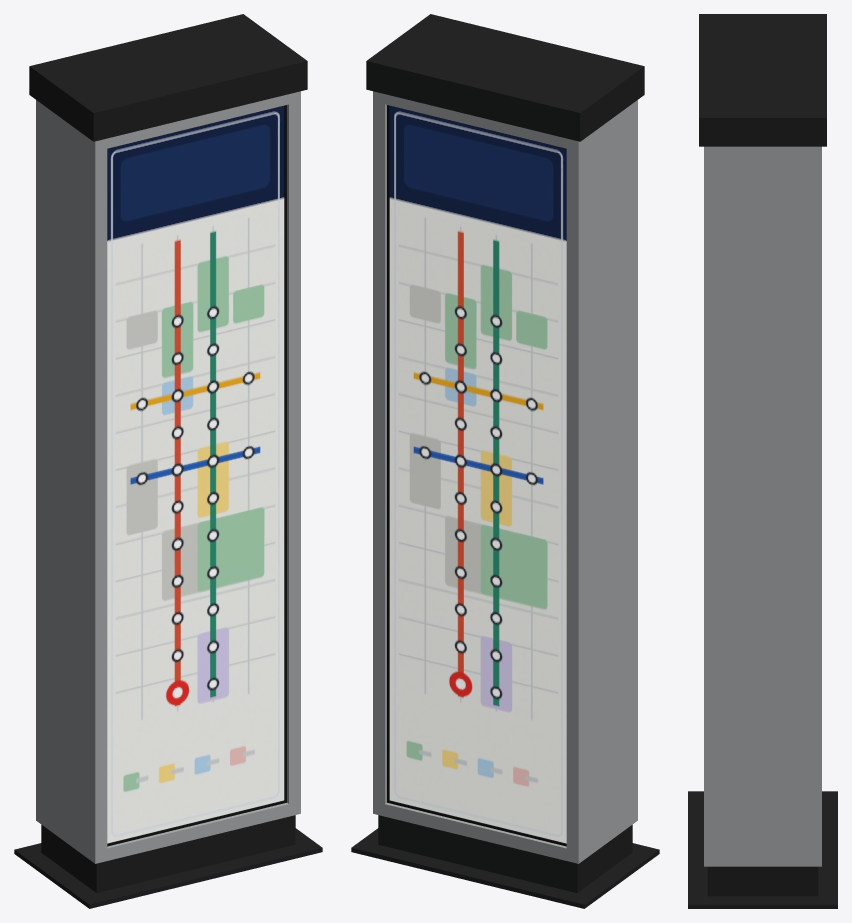
The model's file is gteki_sign_totem.glb.
The picture shows the model from 3 angles, left to right: view 1: azimuth 30°, elevation 25°; view 2: azimuth 150°, elevation 25°; view 3: azimuth 270°, elevation 25°; orthographic projection.
Parts seen in each view (by area): view 1: VIS_body; view 2: VIS_body; view 3: VIS_body.
Boxes of the visible parts, box(x1,y1,x2,y2) form: VIS_body: box(14, 14, 322, 908); VIS_body: box(351, 14, 659, 908); VIS_body: box(688, 14, 837, 908).
Size of what is drawn, in the model's own units: 0.68 by 2.2 by 0.38.
2 materials, 2 textured.
